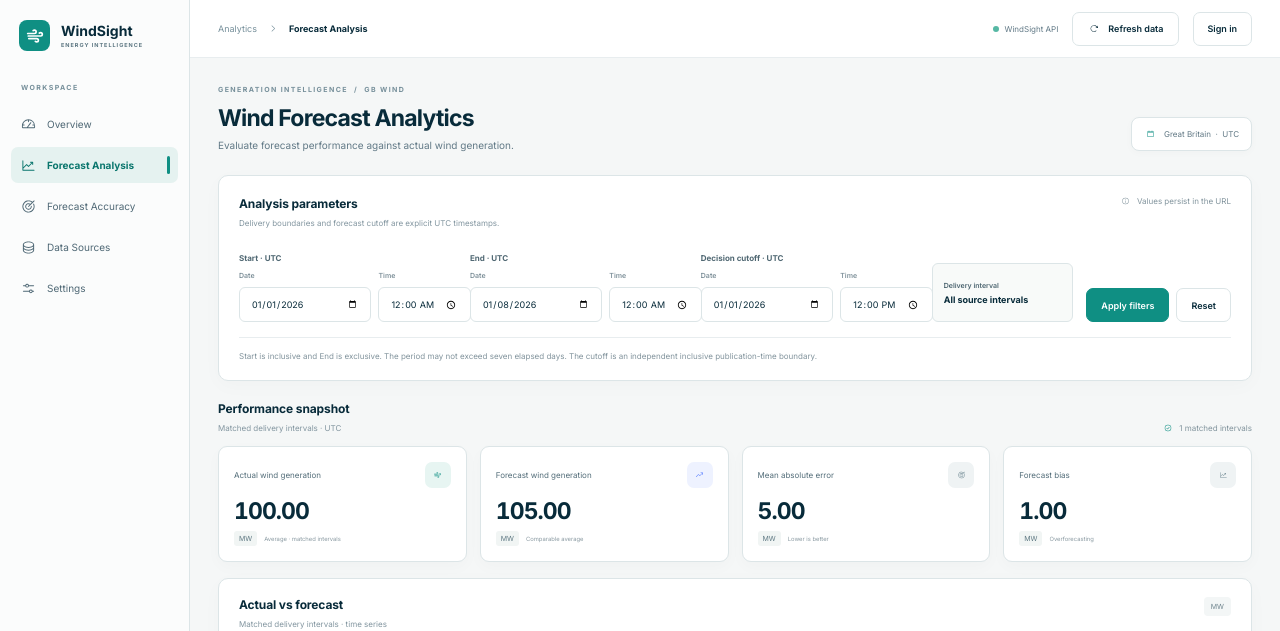
Scenario: Forecast Analysis › validates over-seven-day ranges without a request
The image size is (1280, 631).
Check: the text "100.00" is shown, box [234,497,309,525]
Replace the text in the time field named "End time" with "00:01": [656, 305] box [609,287,702,322]
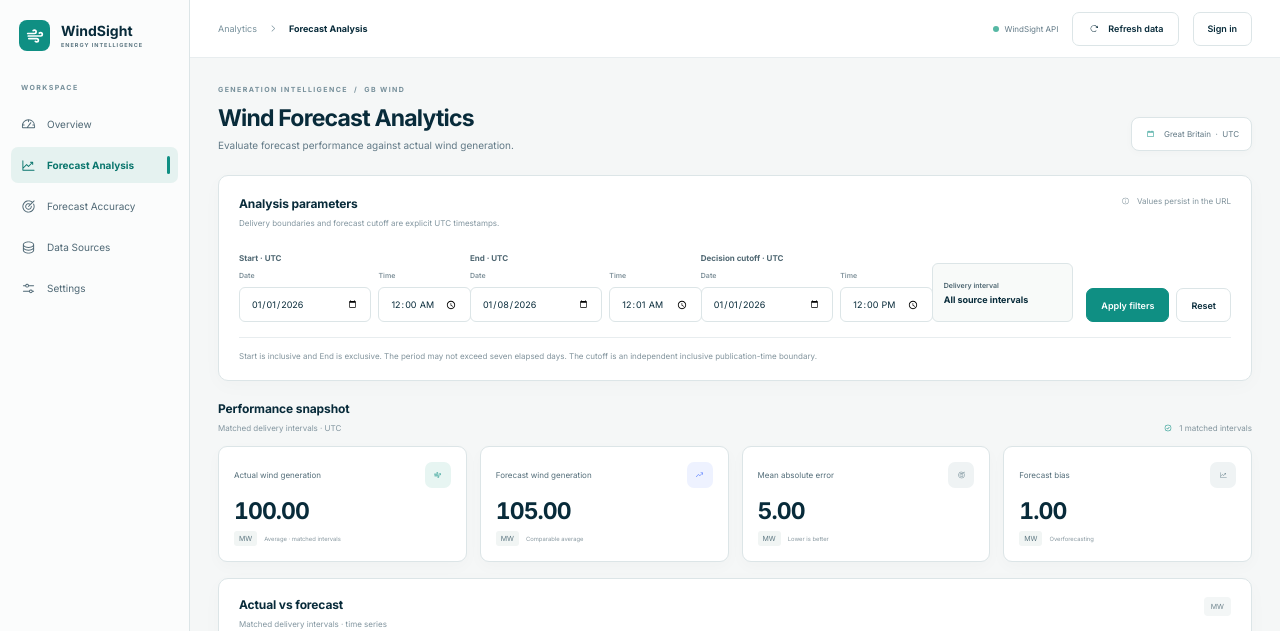
Click the button "Apply filters": [1128, 305] box [1086,288,1170,322]
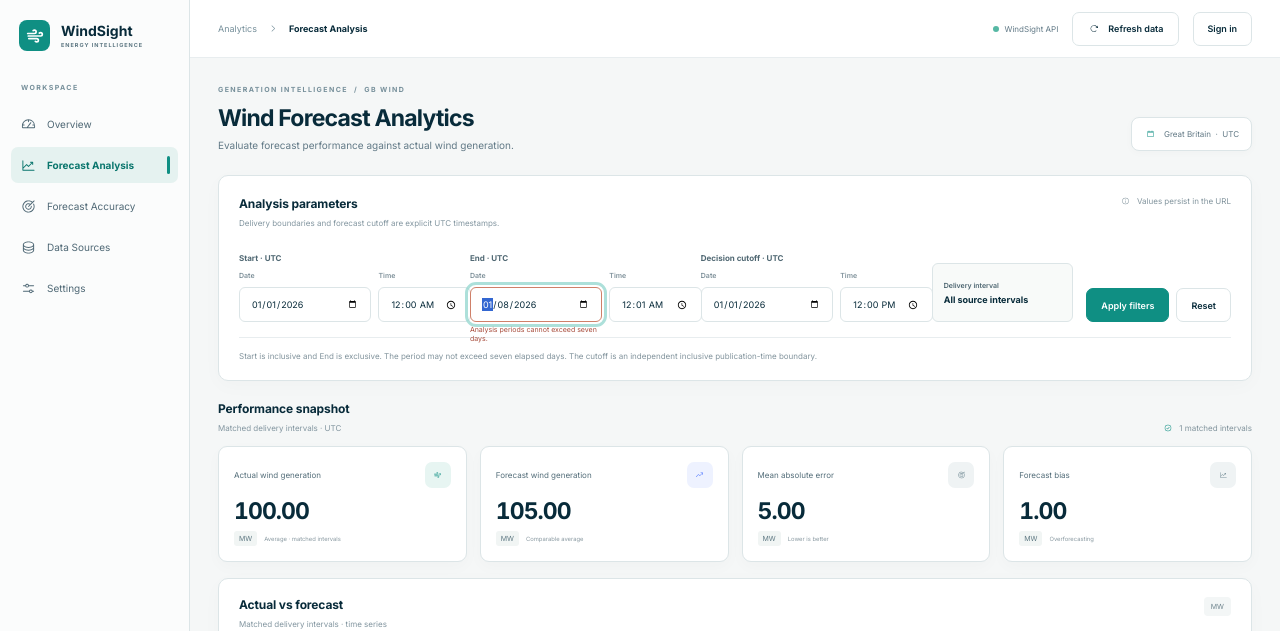
Check: the text "Analysis periods cannot exceed seven days." is shown, box [470,325,602,343]
